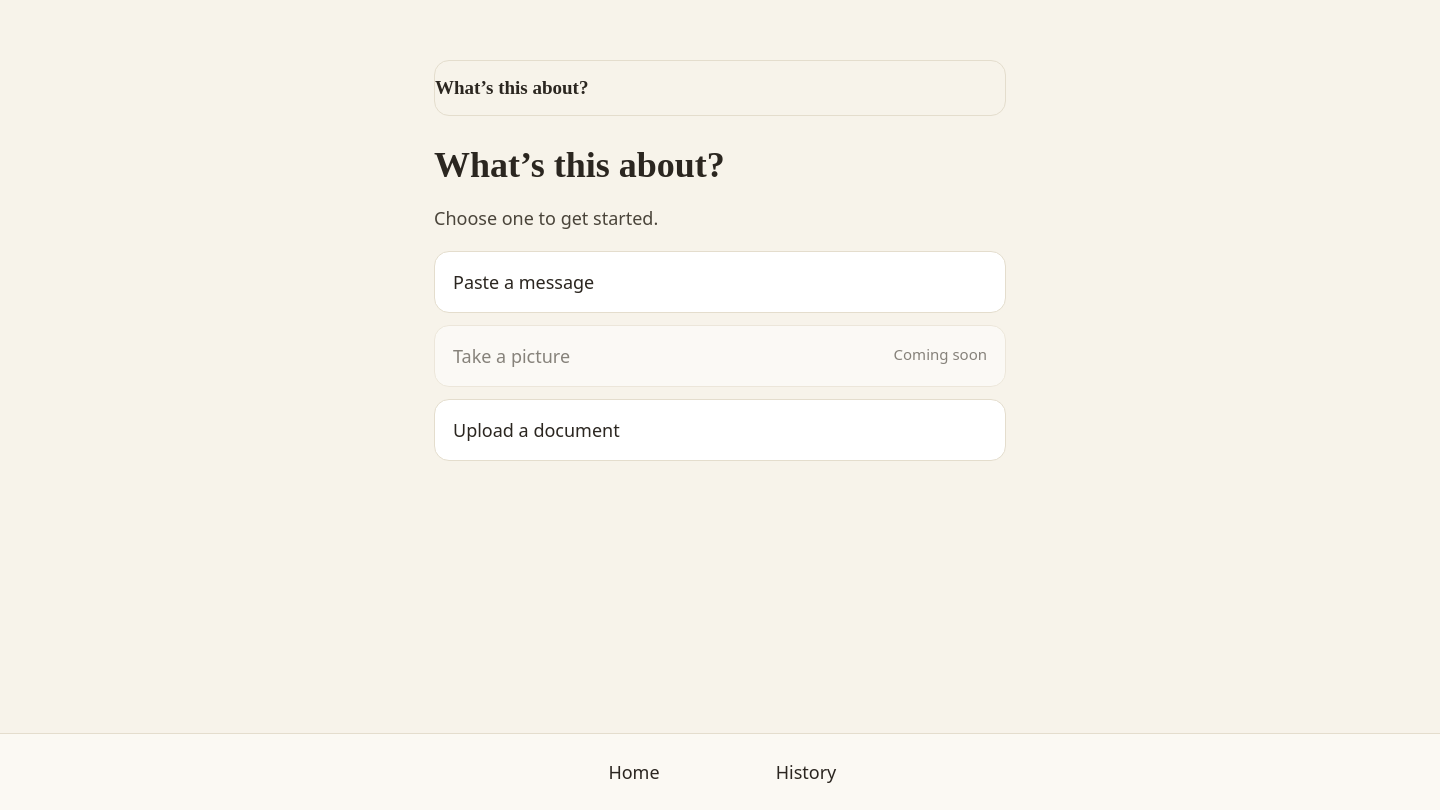
it: guides a pasted scam message through a safe result
Step 1. Click the button "Paste a message" → (524, 282), box [434,251,1006,313]
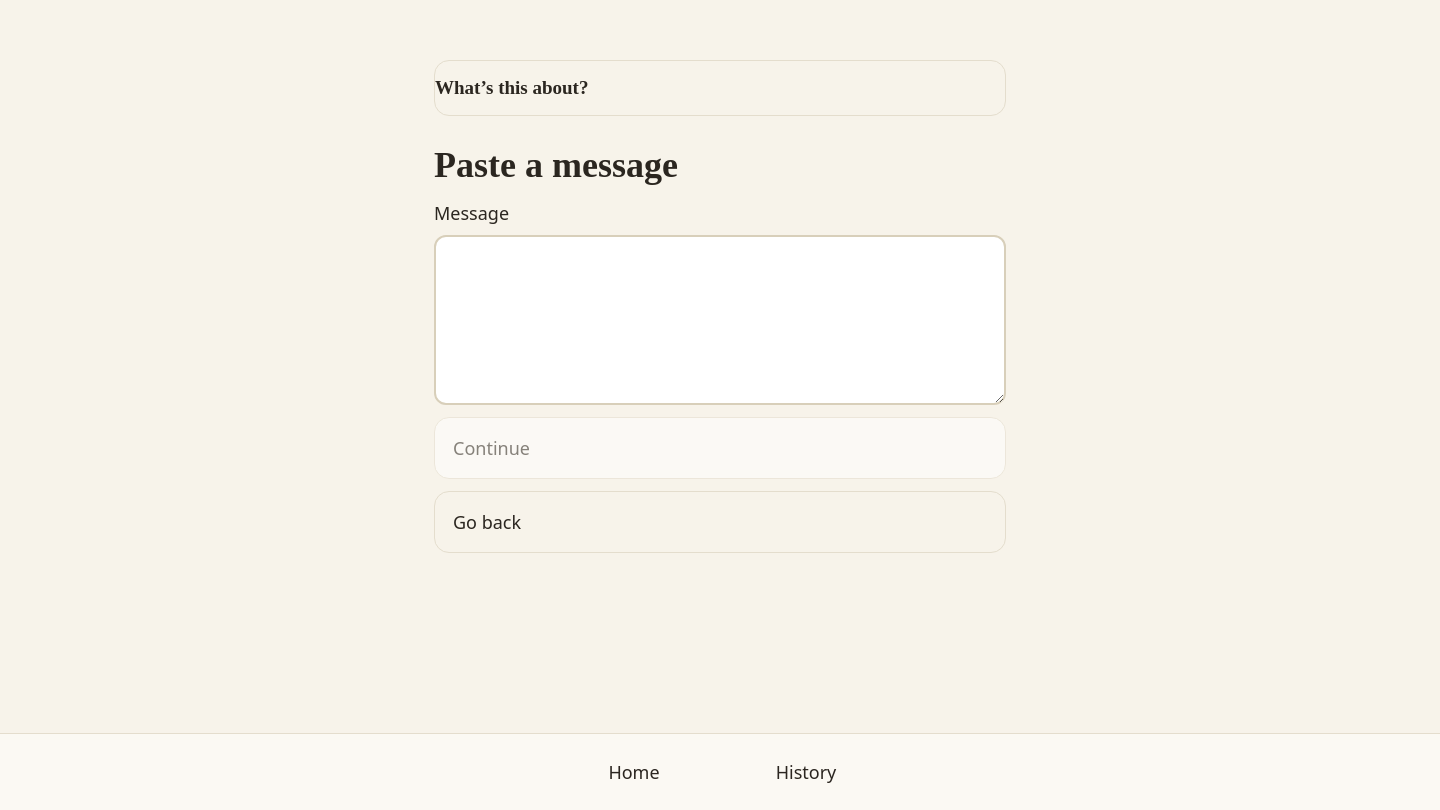
Step 2. Type "Click bad link" into the text box labelled "Message" → (720, 320), box [434,235,1006,405]
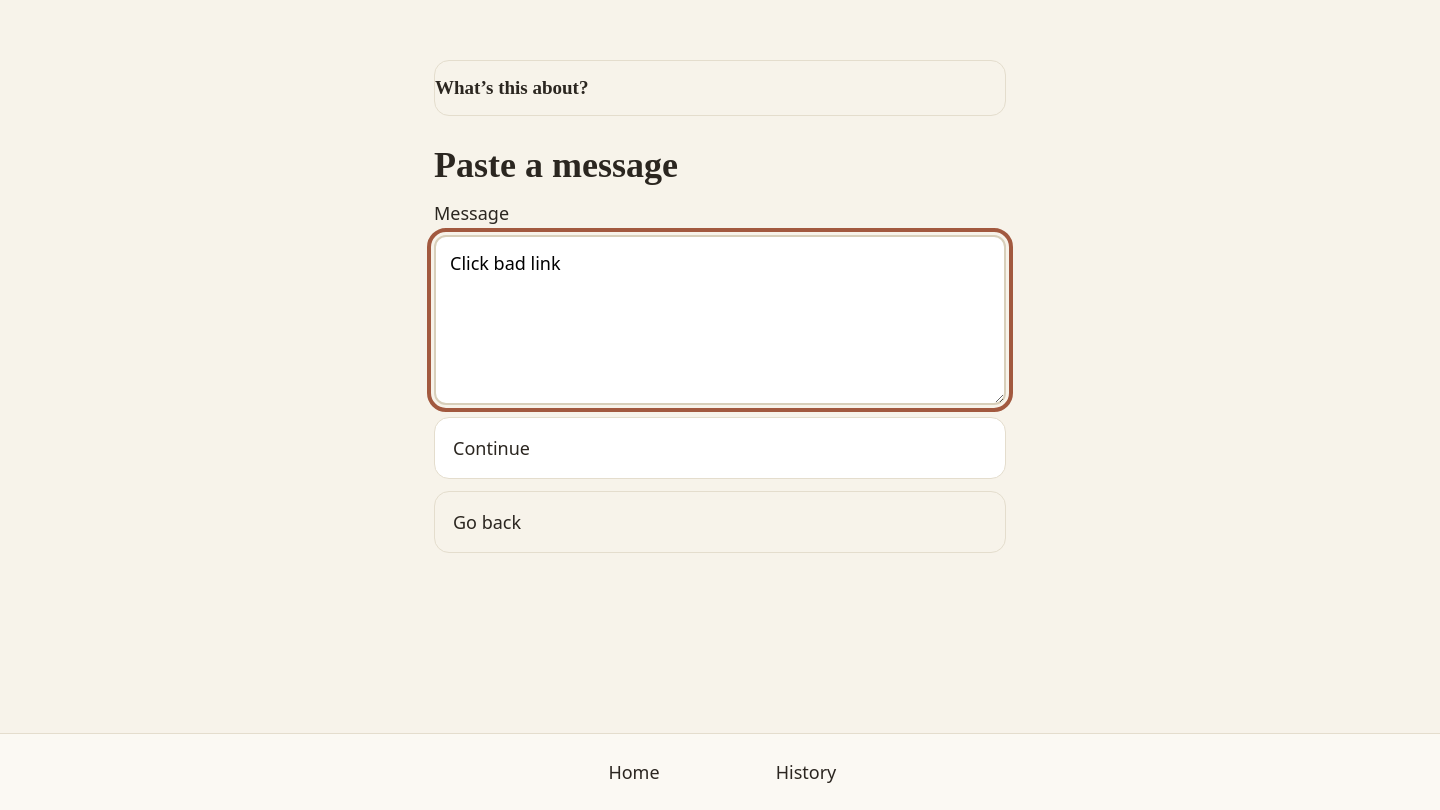
Step 3. Click the button "Continue" → (491, 448), box [434,417,1006,479]
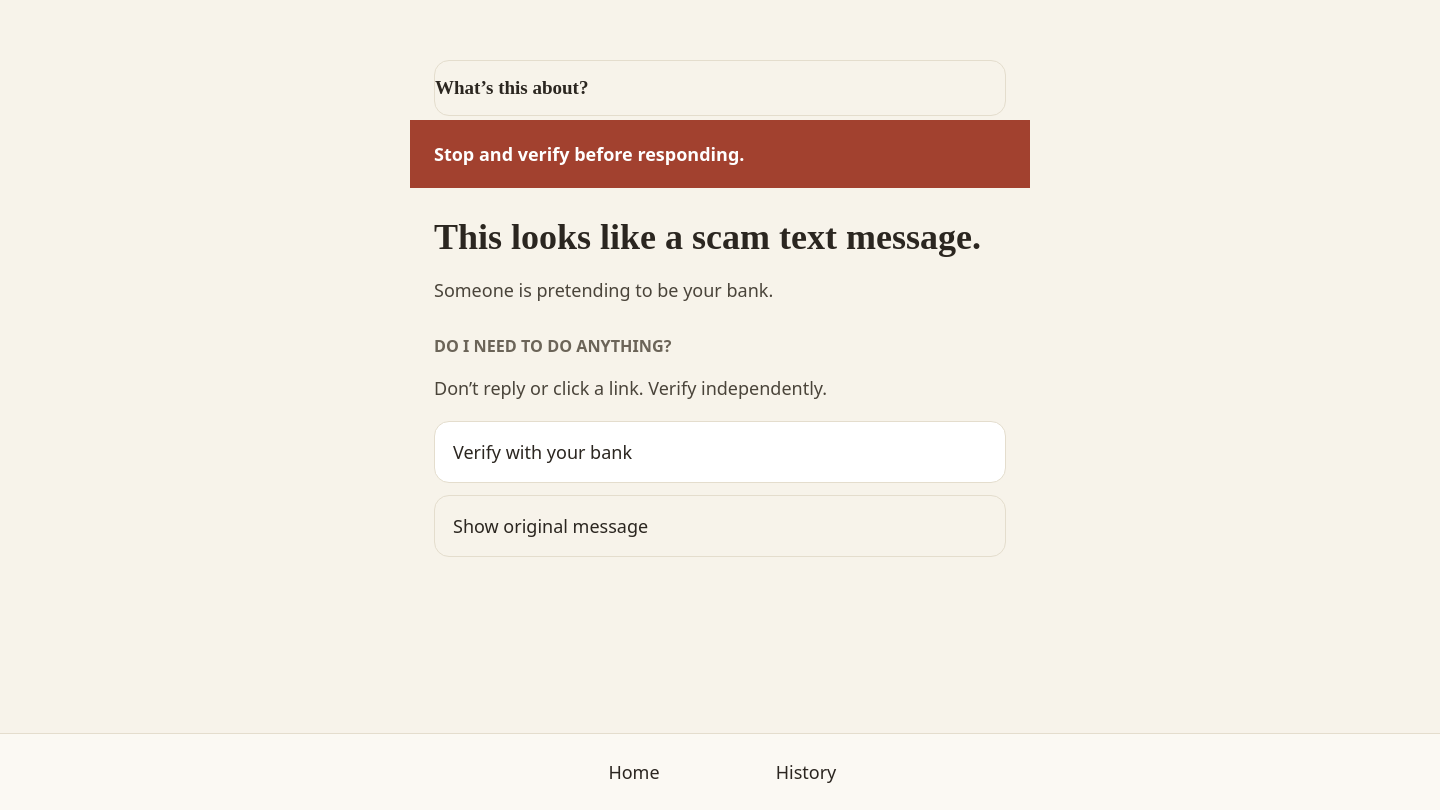
Check: the text "Click bad link" is not shown
Check: the text "Stop and verify before responding." is shown, box [434,142,744,166]
Step 4. Click the button "Show original message" → (551, 526), box [434,495,1006,557]
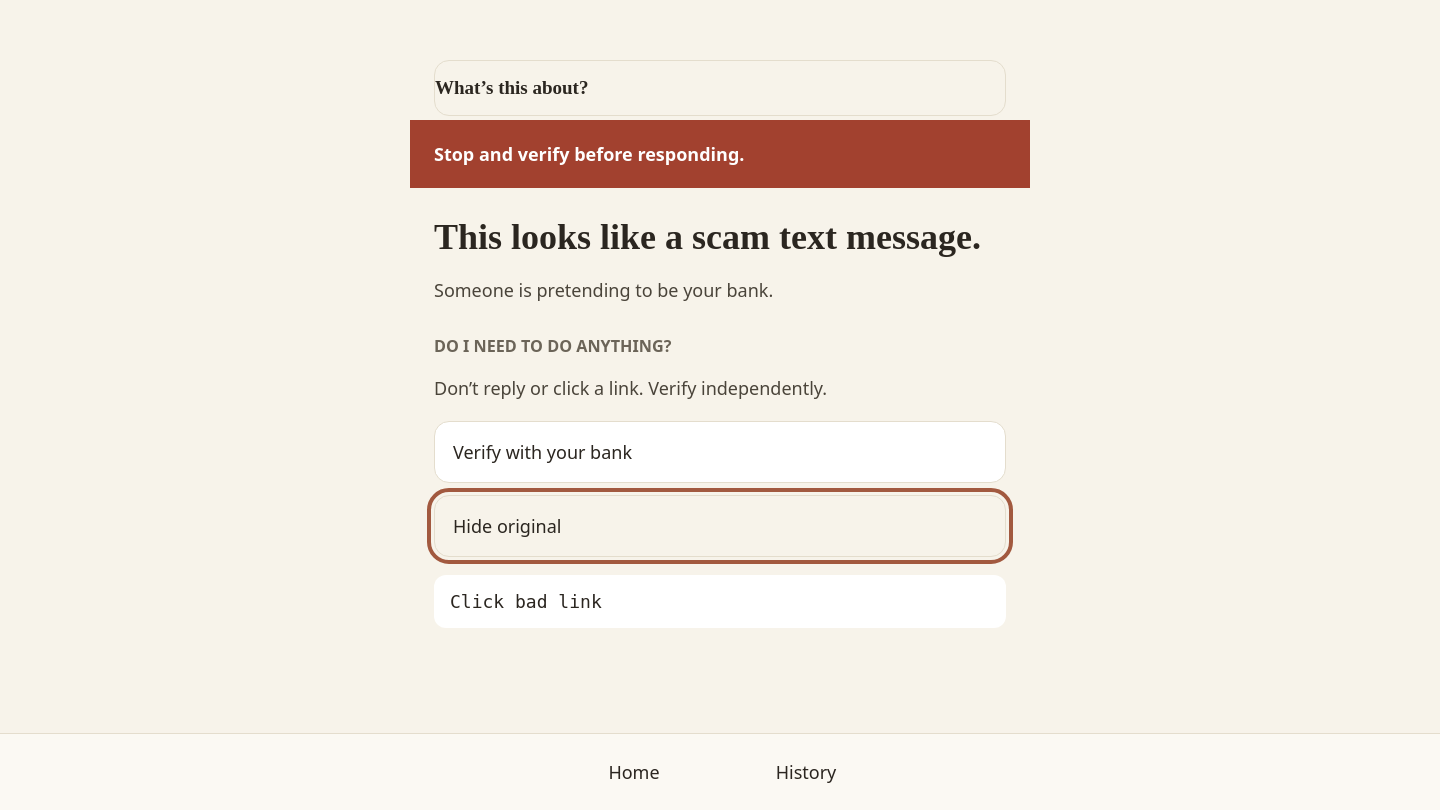
Check: the text "Click bad link" is shown, box [434,575,1006,628]
